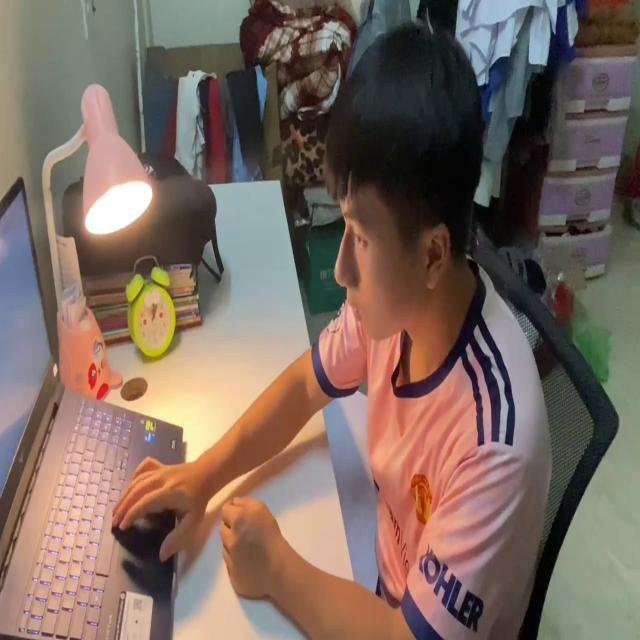book: (323, 381, 381, 593)
laptop: (0, 174, 185, 640)
student: (111, 19, 550, 640)
